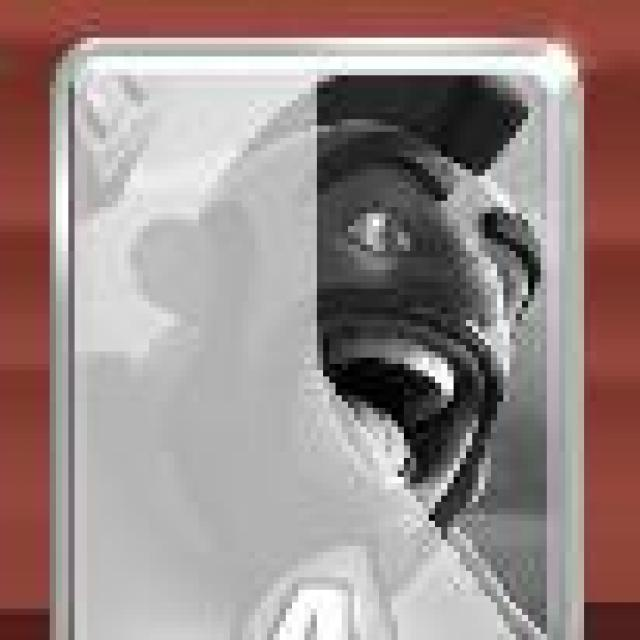Hog_Rider: (48, 39, 586, 639)
